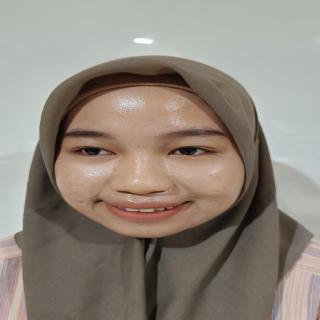Senang: (48, 72, 243, 244)
